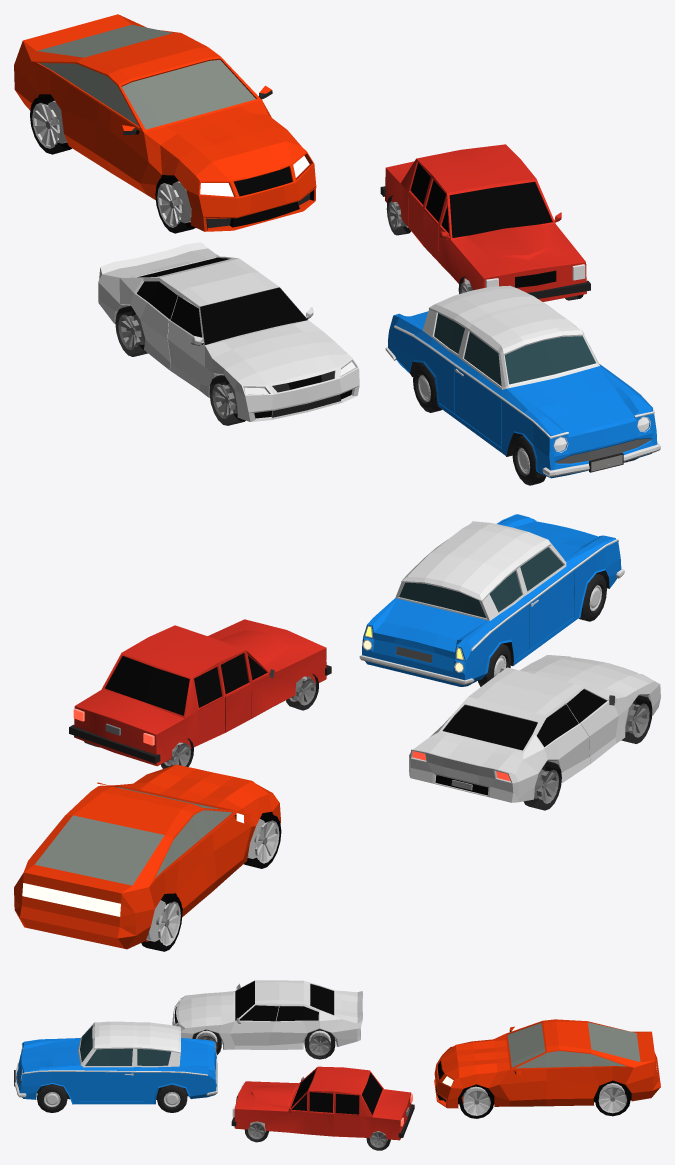
File: cars5.fbx
The picture shows the model from 3 angles, top to bottom: view 1: azimuth 30°, elevation 25°; view 2: azimuth 150°, elevation 25°; view 3: azimuth 270°, elevation 25°; orthographic projection. The views are drawn at different scales.
Parts seen in each view (by area): view 1: Object_4.001, Object_4.003, Object_4, Object_19.001, Object_10.001, Object_5, Object_9.002, Object_18.001, Object_6, Object_8.002, Object_6.002, Object_7.001 (+5 smaller); view 2: Object_4.001, Object_4.003, Object_19.001, Object_4, Object_5, Object_10.001, Object_18.001, Object_9.002, Object_6, Object_8.002, Object_8.001, Object_7 (+5 smaller); view 3: Object_4.001, Object_4, Object_4.003, Object_19.001, Object_10.001, Object_5, Object_9.002, Object_18.001, Object_6, Object_8.002, Object_14, Object_6.002 (+6 smaller).
Boxes of the visible parts, x1,y1,x2,y2 form: Object_4.001: [14, 14, 316, 231]; Object_4.003: [98, 242, 359, 421]; Object_4: [388, 311, 657, 478]; Object_19.001: [385, 144, 586, 301]; Object_10.001: [37, 24, 255, 129]; Object_5: [422, 285, 599, 389]; Object_9.002: [137, 258, 352, 418]; Object_18.001: [410, 163, 556, 287]; Object_6: [434, 313, 595, 386]; Object_8.002: [32, 100, 191, 227]; Object_6.002: [30, 94, 313, 230]; Object_7.001: [115, 305, 340, 425]; Object_4.001: [14, 764, 280, 949]; Object_4.003: [409, 655, 660, 802]; Object_19.001: [74, 619, 326, 766]; Object_4: [362, 514, 621, 686]; Object_5: [395, 521, 566, 620]; Object_10.001: [35, 787, 232, 885]; Object_18.001: [105, 653, 267, 715]; Object_9.002: [435, 689, 606, 795]; Object_6: [399, 547, 563, 618]; Object_8.002: [146, 819, 279, 946]; Object_8.001: [451, 668, 649, 803]; Object_7: [359, 520, 624, 685]; Object_4.001: [434, 1019, 660, 1108]; Object_4: [16, 1038, 216, 1104]; Object_4.003: [172, 980, 362, 1049]; Object_19.001: [234, 1066, 411, 1140]; Object_10.001: [507, 1022, 640, 1068]; Object_5: [78, 1021, 180, 1067]; Object_9.002: [174, 981, 333, 1021]; Object_18.001: [236, 1070, 382, 1114]; Object_6: [80, 1026, 170, 1065]; Object_8.002: [463, 1083, 626, 1115]; Object_14: [37, 1084, 187, 1112]; Object_6.002: [435, 1061, 631, 1116].
Bounding box in the file's own units: 581 × 146 × 1246.
